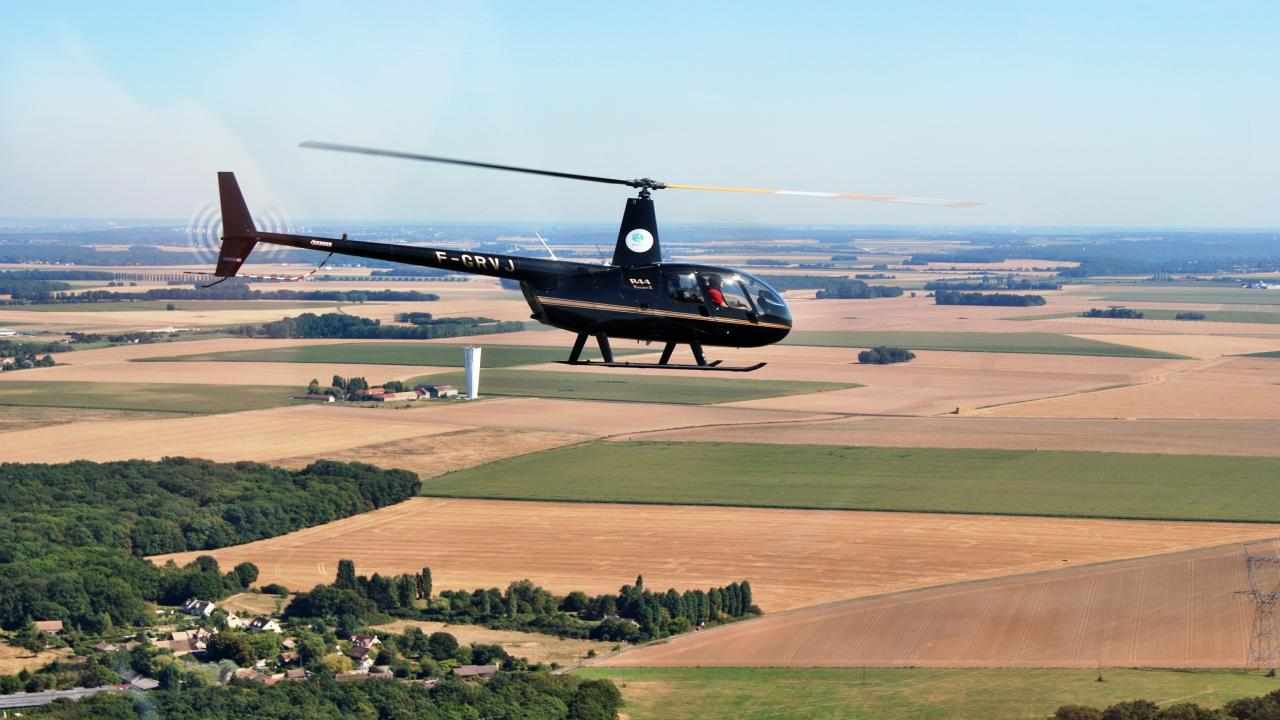Helicopter: (179, 104, 1023, 424)
